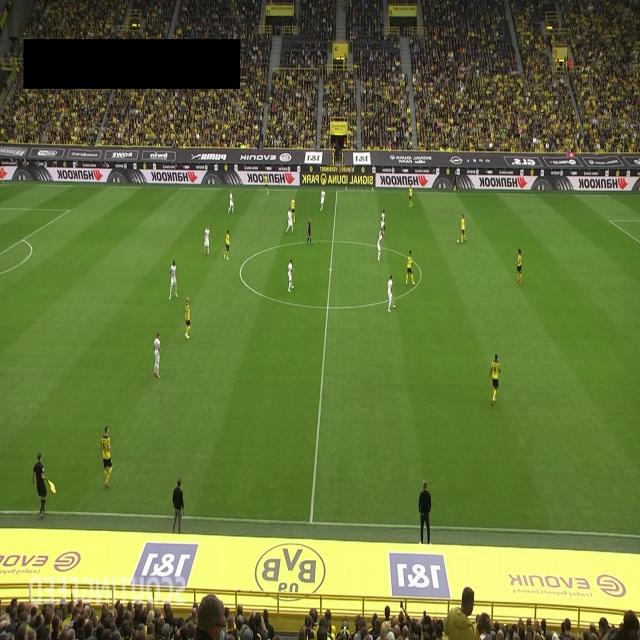ball: (456, 238, 459, 246)
player: (100, 425, 113, 488), (488, 354, 501, 406), (153, 333, 162, 378), (169, 260, 178, 300), (406, 250, 416, 285), (387, 274, 395, 313), (184, 296, 191, 340), (203, 224, 211, 256), (515, 248, 522, 284), (287, 258, 294, 292), (286, 207, 294, 235), (460, 213, 467, 243), (377, 230, 383, 262), (224, 229, 230, 260), (290, 194, 296, 223), (228, 190, 234, 214), (320, 188, 326, 211), (380, 209, 385, 232), (408, 185, 413, 207), (264, 174, 269, 195)
referee: (32, 451, 57, 521), (306, 218, 312, 245), (452, 170, 457, 192)
